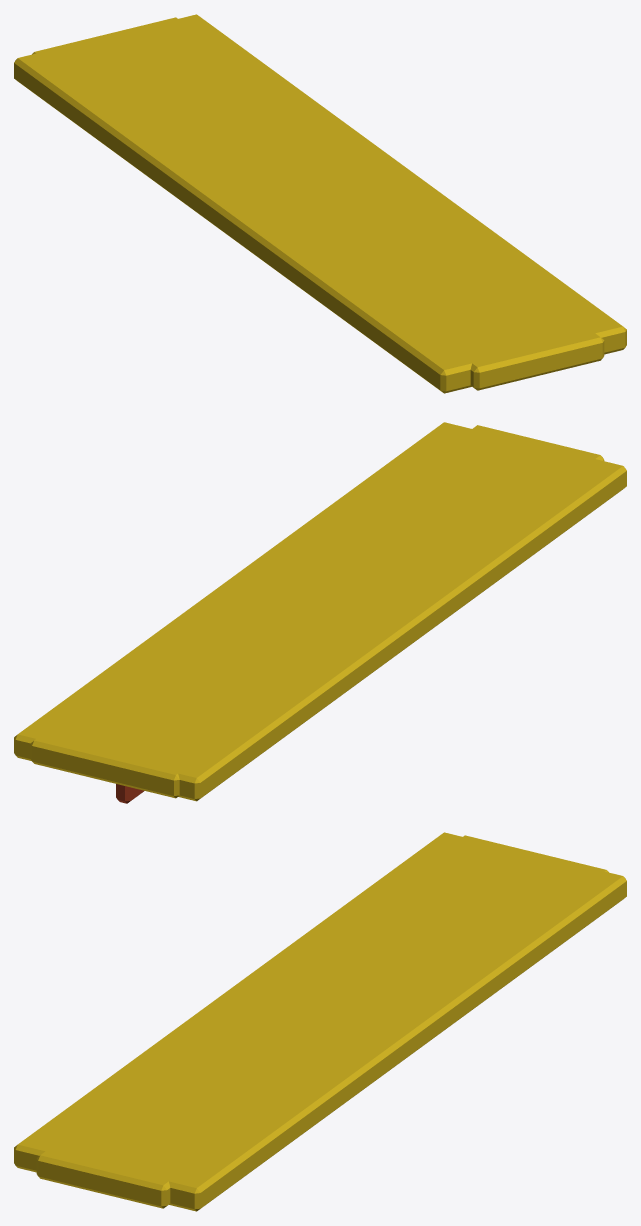
Rendered from PRP_Surfboard_BCH_v001.fbx.
3 renders of one model, top to bottom at view 1: azimuth 30°, elevation 25°; view 2: azimuth 150°, elevation 25°; view 3: azimuth 330°, elevation 25°, orthographic.
Parts seen in each view (by area): view 1: PRP_Surfboard_BCH_v001; view 2: PRP_Surfboard_BCH_v001; view 3: PRP_Surfboard_BCH_v001.
Part boxes in pixels (left/top/right/bottom): PRP_Surfboard_BCH_v001: left=14, top=14, right=626, bottom=393; PRP_Surfboard_BCH_v001: left=14, top=422, right=626, bottom=803; PRP_Surfboard_BCH_v001: left=14, top=832, right=626, bottom=1211.
Bounding box in the file's own units: 0.5 × 0.15 × 2.03.
